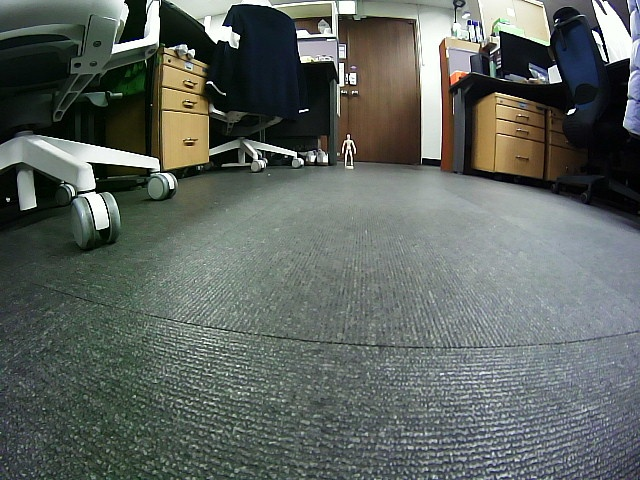person: (341, 133, 356, 165)
